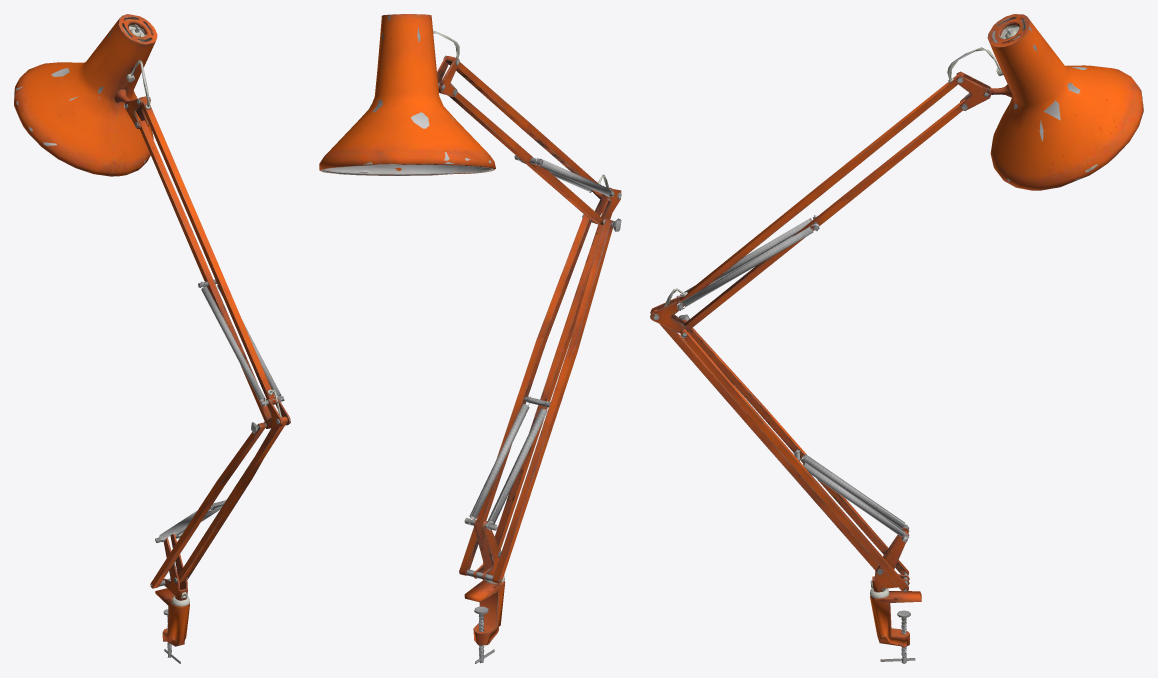
The model's file is desk_lamp_arm_01.glb.
3 renders of one model, left to right at view 1: azimuth 30°, elevation 25°; view 2: azimuth 150°, elevation 25°; view 3: azimuth 270°, elevation 25°, orthographic. The views are drawn at different scales.
Parts seen in each view (by area): view 1: desk_lamp_arm_01; view 2: desk_lamp_arm_01; view 3: desk_lamp_arm_01.
Boxes of the visible parts, <box> form: desk_lamp_arm_01: <box>14,14,290,663</box>; desk_lamp_arm_01: <box>319,14,621,663</box>; desk_lamp_arm_01: <box>650,14,1143,663</box>.
Bounding box in the file's own units: 0.2017 × 0.8926 × 0.6133.
2 materials, 2 textured.
